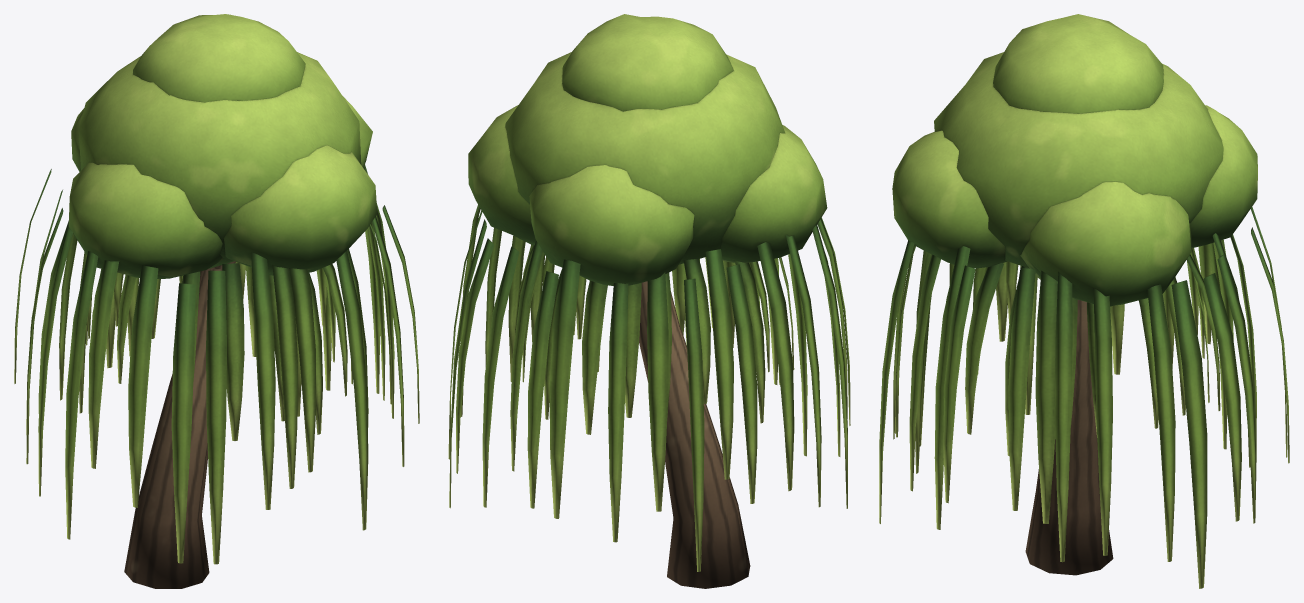
The model's file is Sauce.fbx.
3 views of the same model, side by side, from view 1: azimuth 30°, elevation 25°; view 2: azimuth 150°, elevation 25°; view 3: azimuth 270°, elevation 25° (orthographic). The views are drawn at different scales.
Visible parts, largest first — view 1: Malla; view 2: Malla; view 3: Malla.
Boxes of the visible parts, x1,y1,x2,y2 form: Malla: [14, 14, 419, 588]; Malla: [448, 14, 850, 588]; Malla: [879, 14, 1289, 588].
Size of the model in its own units: 5.86 by 8.55 by 5.72.
1 material, 1 textured.
